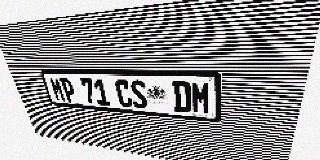1: (92, 79, 110, 106)
7: (79, 78, 98, 105)
C: (114, 79, 133, 108)
D: (172, 81, 191, 113)
M: (191, 81, 211, 115), (49, 78, 66, 102)
P: (59, 78, 77, 103)
S: (129, 80, 148, 109)
